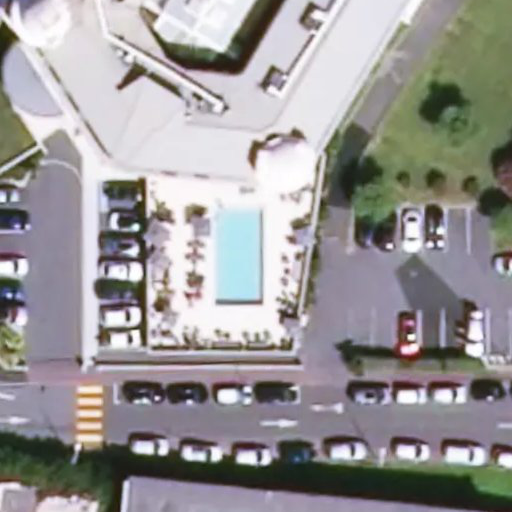pool: (216, 187, 296, 297)
